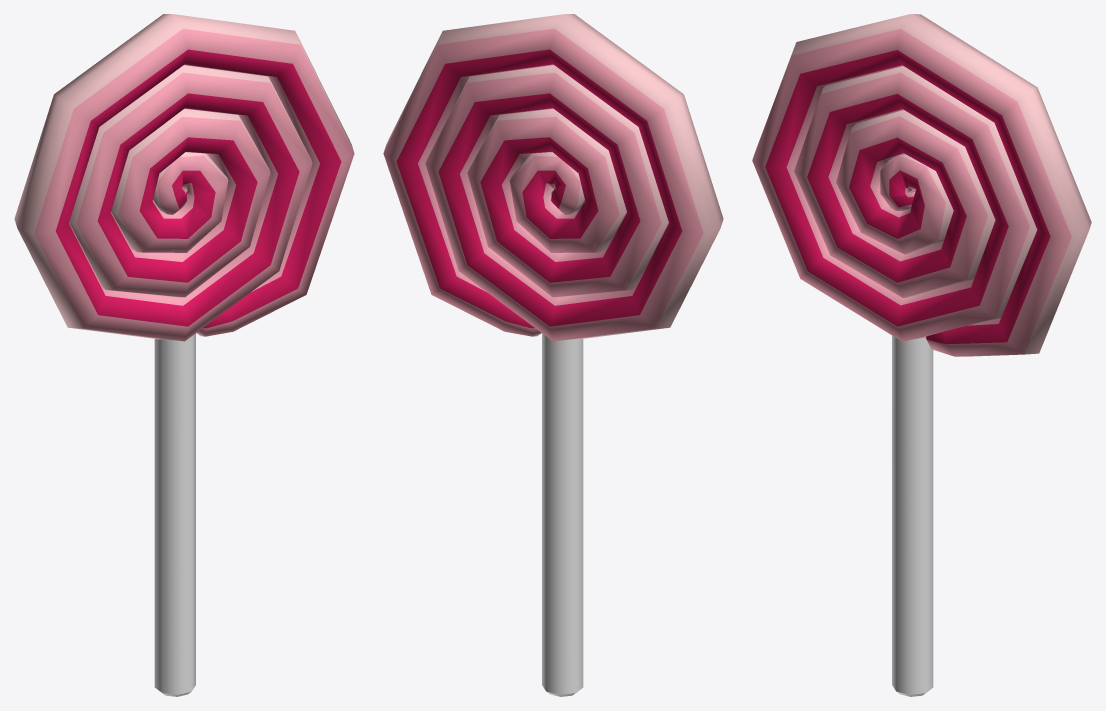
File: Candy_1.fbx
The picture shows the model from 3 angles, left to right: view 1: azimuth 30°, elevation 25°; view 2: azimuth 150°, elevation 25°; view 3: azimuth 330°, elevation 25°; orthographic projection.
Parts seen in each view (by area): view 1: Candy_1; view 2: Candy_1; view 3: Candy_1.
Boxes of the visible parts, <box> form: Candy_1: <box>14,14,354,696</box>; Candy_1: <box>383,14,723,696</box>; Candy_1: <box>752,14,1091,696</box>.
Bounding box in the file's own units: 1.76 × 3.41 × 0.2571.
